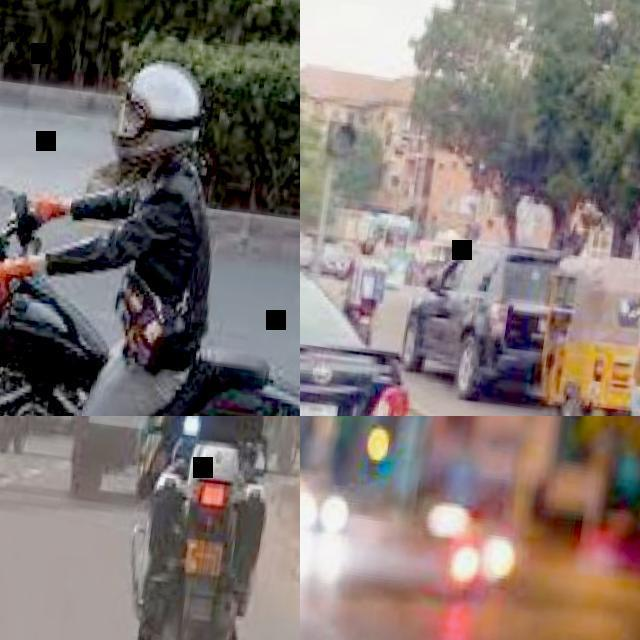car: (4, 153, 212, 372), (116, 59, 211, 194), (69, 186, 133, 222)
